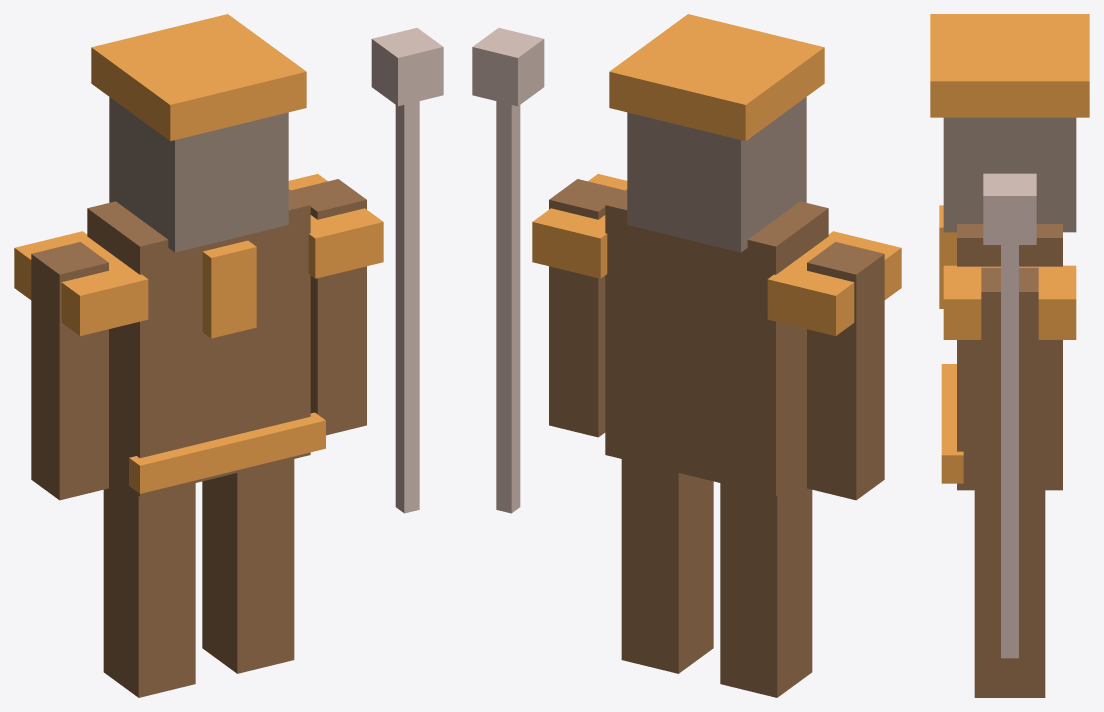
File: 05_bex_cragwarden_courier_at_watcher.glb
The picture shows the model from 3 angles, left to right: view 1: azimuth 30°, elevation 25°; view 2: azimuth 150°, elevation 25°; view 3: azimuth 270°, elevation 25°; orthographic projection.
Visible parts, largest first — view 1: Bex Cragwarden, Courier at Watcher; view 2: Bex Cragwarden, Courier at Watcher; view 3: Bex Cragwarden, Courier at Watcher.
Boxes of the visible parts, <box> form: Bex Cragwarden, Courier at Watcher: <box>14,14,443,697</box>; Bex Cragwarden, Courier at Watcher: <box>472,14,901,697</box>; Bex Cragwarden, Courier at Watcher: <box>930,14,1089,697</box>.
Bounding box in the file's own units: 1.1 × 1.65 × 0.3898.
